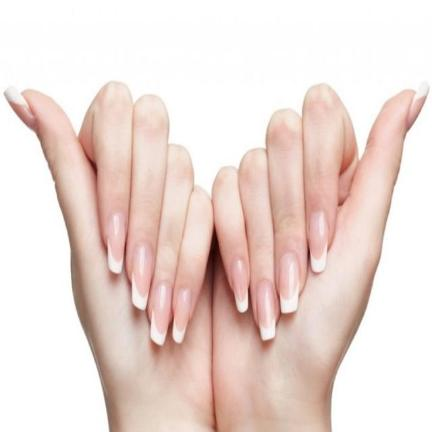Nail: (4, 86, 38, 133), (132, 242, 153, 311), (151, 283, 172, 346), (279, 252, 300, 314), (309, 211, 329, 273), (256, 280, 276, 341), (407, 81, 431, 130), (107, 213, 126, 273), (172, 288, 191, 344), (232, 259, 248, 313)
